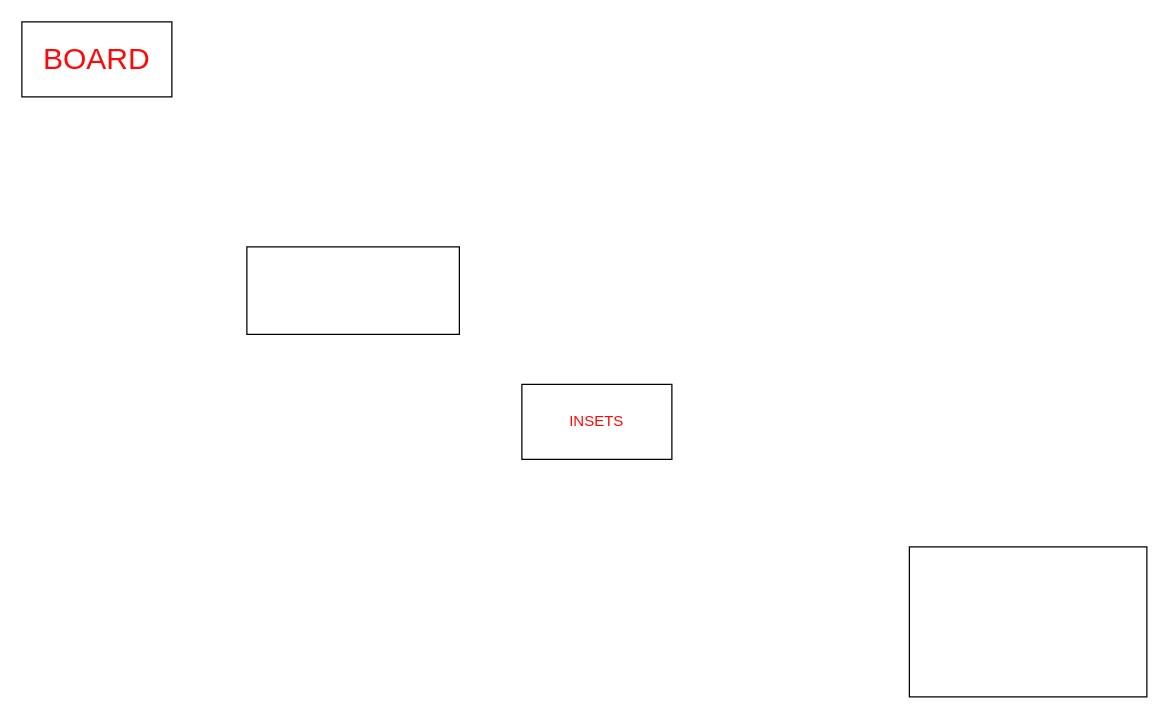
Some shapes in this 1169 by 719 pixel diagram are drawn without their labels. The box of each missing label's shape, as (x1, y1, x2, y2) in pixels:
COMPONENT: (246, 246, 459, 334)
SKETCH: (908, 546, 1147, 697)
